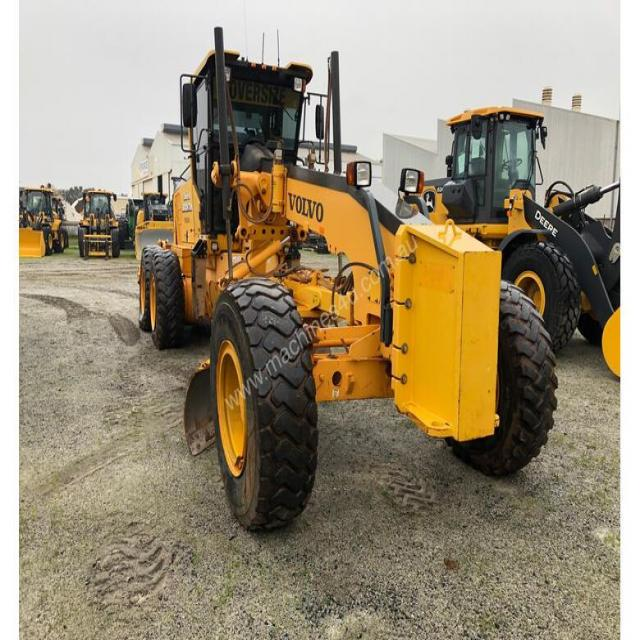Grader: (126, 16, 558, 538)
